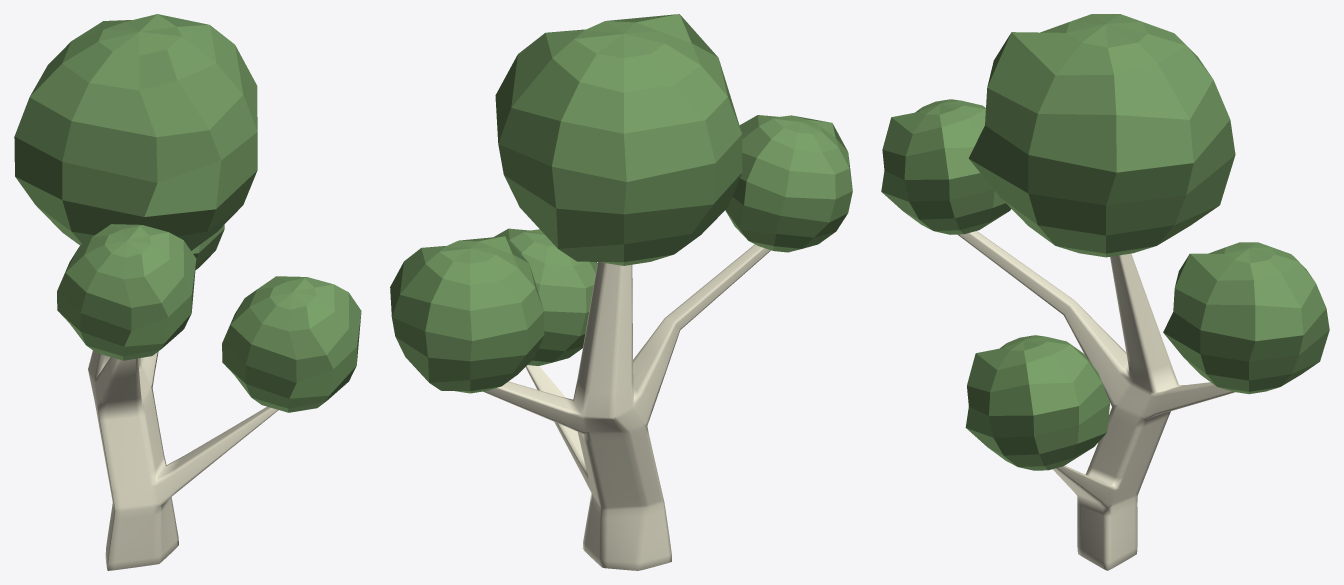
File: TRee 4.fbx
The picture shows the model from 3 angles, left to right: view 1: azimuth 30°, elevation 25°; view 2: azimuth 150°, elevation 25°; view 3: azimuth 270°, elevation 25°; orthographic projection.
Parts seen in each view (by area): view 1: Leaf, Stem, pSphere3, pSphere4, pSphere2; view 2: Leaf, Stem, pSphere2, pSphere3, pSphere4; view 3: Leaf, Stem, pSphere2, pSphere4, pSphere3.
Part boxes in pixels (x1,y1,x2,y2): Leaf: (14,14,257,250); Stem: (88,350,278,570); pSphere3: (57,224,196,360); pSphere4: (222,276,361,412); pSphere2: (191,224,224,270); Leaf: (495,14,742,265); Stem: (483,244,770,570); pSphere2: (390,236,544,393); pSphere3: (725,115,852,252); pSphere4: (493,228,597,365); Leaf: (968,14,1235,257); Stem: (958,231,1235,570); pSphere2: (1163,242,1329,393); pSphere4: (965,335,1109,470); pSphere3: (881,99,1010,234).
Size of the model in its own units: 11.99 by 18.03 by 13.88.
